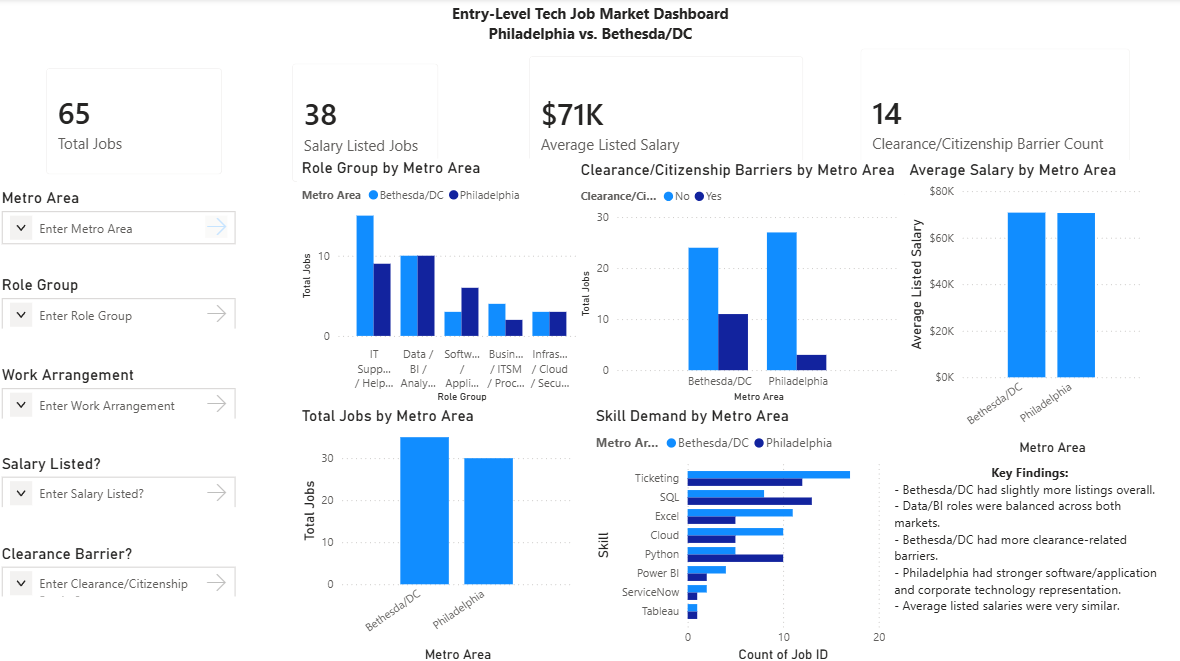

What the dashboard file says about the page in this screenshot:
{"tool":"powerbi","page":{"name":"Dashboard Overview","canvas":[1280,720],"ordinal":0},"visuals":[{"type":"textbox","box":[442.2,0,396.9,68],"z":0},{"type":"cardVisual","fields":{"Data":["MainJobs1.Total Jobs"]},"box":[35.9,58.6,224.9,149.3],"z":1000},{"type":"cardVisual","fields":{"Data":["MainJobs1.Average Listed Salary"]},"box":[557.5,45.4,330.7,177.6],"z":2000},{"type":"cardVisual","fields":{"Data":["MainJobs1.Salary Listed Jobs"]},"box":[300.5,52.9,192.8,162.5],"z":3000},{"type":"cardVisual","fields":{"Data":["MainJobs1.Clearance/Citizenship Barrier Count"]},"box":[915,37.5,325,192.5],"z":4000},{"type":"clusteredColumnChart","fields":{"Category":["MainJobs1.Metro Area"],"Y":["MainJobs1.Total Jobs"]},"box":[323.8,440.4,302.8,280.1],"z":5000},{"type":"clusteredColumnChart","title":"Role Group by Metro Area","fields":{"Category":["MainJobs1.Role Group"],"Series":["MainJobs1.Metro Area"],"Y":["MainJobs1.Total Jobs"]},"box":[323.8,173.3,315.7,267.2],"z":6000},{"type":"clusteredColumnChart","title":"Average Salary by Metro Area","fields":{"Category":["MainJobs1.Metro Area"],"Y":["MainJobs1.Average Listed Salary"]},"box":[979.6,174.9,260.7,322.2],"z":7000},{"type":"clusteredColumnChart","title":"Clearance/Citizenship Barriers by Metro Area","fields":{"Category":["MainJobs1.Metro Area"],"Series":["MainJobs1.Clearance/Citizenship Barrier?"],"Y":["MainJobs1.Total Jobs"]},"box":[625,174.9,354.6,265.6],"z":8000},{"type":"clusteredBarChart","title":"Skill Demand by Metro Area","fields":{"Category":["SkillsLong.Skill"],"Series":["SkillsLong.Metro Area"],"Y":["CountNonNull(SkillsLong.Job ID)"]},"box":[641.2,440.4,322.2,280.1],"z":9000},{"type":"textSlicer","fields":{"Values":["MainJobs1.Metro Area"]},"box":[0,206.3,262.5,65],"z":10000},{"type":"textSlicer","fields":{"Values":["MainJobs1.Role Group"]},"box":[0,298.8,262.5,57.5],"z":11000},{"type":"textSlicer","fields":{"Values":["MainJobs1.Work Arrangement"]},"box":[0,396.3,262.5,57.5],"z":12000},{"type":"textSlicer","fields":{"Values":["MainJobs1.Salary Listed?"]},"box":[0,493,262.5,57.5],"z":13000},{"type":"textSlicer","title":"Clearance Barrier?","fields":{"Values":["MainJobs1.Clearance/Citizenship Barrier?"]},"box":[0,589.9,262.3,56.7],"z":14000},{"type":"textbox","box":[963.4,497.1,302.8,199.2],"z":15000}]}

Visuals, with their boxes in screenshot pixels (x1, y1, x2, y2), scaled from the page's 1280x720 canvas onto the 1180x661 screenshot:
textbox: box(408, 0, 774, 62)
cardVisual - MainJobs1.Total Jobs: box(33, 54, 240, 191)
cardVisual - MainJobs1.Average Listed Salary: box(514, 42, 819, 205)
cardVisual - MainJobs1.Salary Listed Jobs: box(277, 49, 455, 198)
cardVisual - MainJobs1.Clearance/Citizenship Barrier Count: box(844, 34, 1143, 211)
clusteredColumnChart - MainJobs1.Metro Area x MainJobs1.Total Jobs: box(299, 404, 578, 660)
"Role Group by Metro Area" clusteredColumnChart: box(299, 159, 590, 404)
"Average Salary by Metro Area" clusteredColumnChart: box(903, 161, 1143, 456)
"Clearance/Citizenship Barriers by Metro Area" clusteredColumnChart: box(576, 161, 903, 404)
"Skill Demand by Metro Area" clusteredBarChart: box(591, 404, 888, 660)
textSlicer - MainJobs1.Metro Area: box(0, 189, 242, 249)
textSlicer - MainJobs1.Role Group: box(0, 274, 242, 327)
textSlicer - MainJobs1.Work Arrangement: box(0, 364, 242, 417)
textSlicer - MainJobs1.Salary Listed?: box(0, 453, 242, 505)
"Clearance Barrier?" textSlicer: box(0, 542, 242, 594)
textbox: box(888, 456, 1167, 639)
